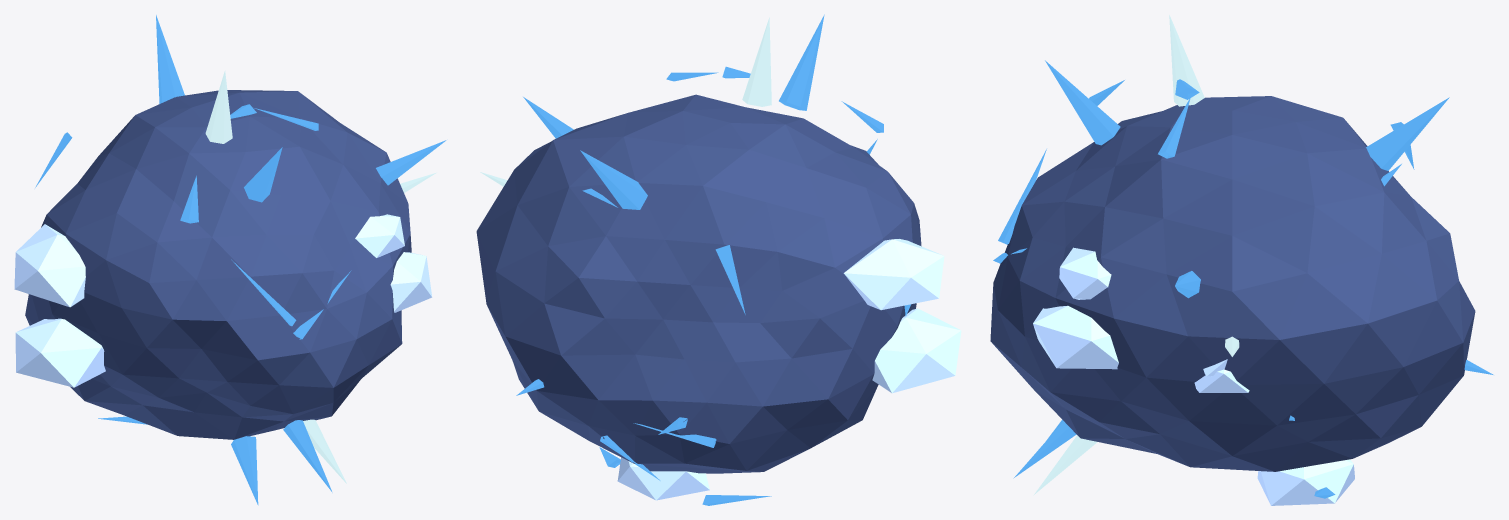
The model's file is rogue_asteroid.glb.
The picture shows the model from 3 angles, left to right: view 1: azimuth 30°, elevation 25°; view 2: azimuth 150°, elevation 25°; view 3: azimuth 270°, elevation 25°; orthographic projection. The views are drawn at different scales.
Visible parts, largest first — view 1: rogue_asteroid; view 2: rogue_asteroid; view 3: rogue_asteroid.
Part boxes in pixels (x1=…): rogue_asteroid: x1=14, y1=15, x2=446, y2=505; rogue_asteroid: x1=476, y1=14, x2=961, y2=505; rogue_asteroid: x1=990, y1=15, x2=1493, y2=505.
Size of the model in its own units: 3.17 by 2.87 by 2.79.
